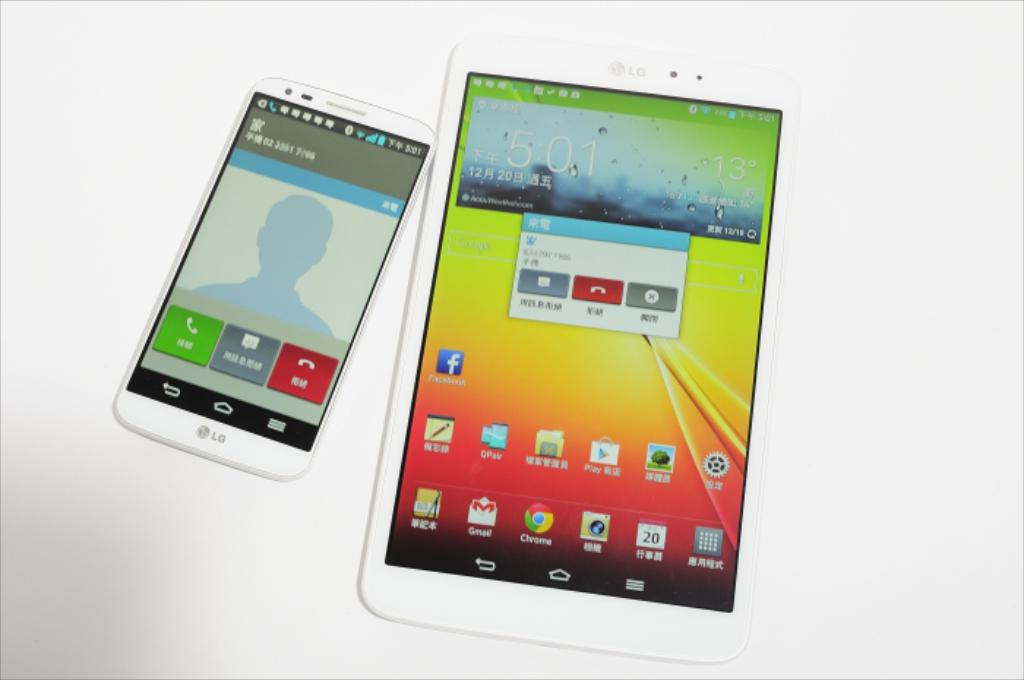mobile phone: (359, 32, 806, 669), (108, 74, 440, 481)
